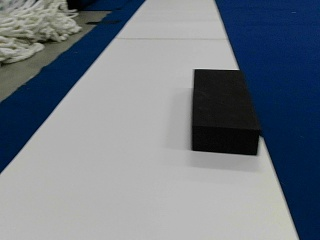block: (192, 69, 260, 156)
